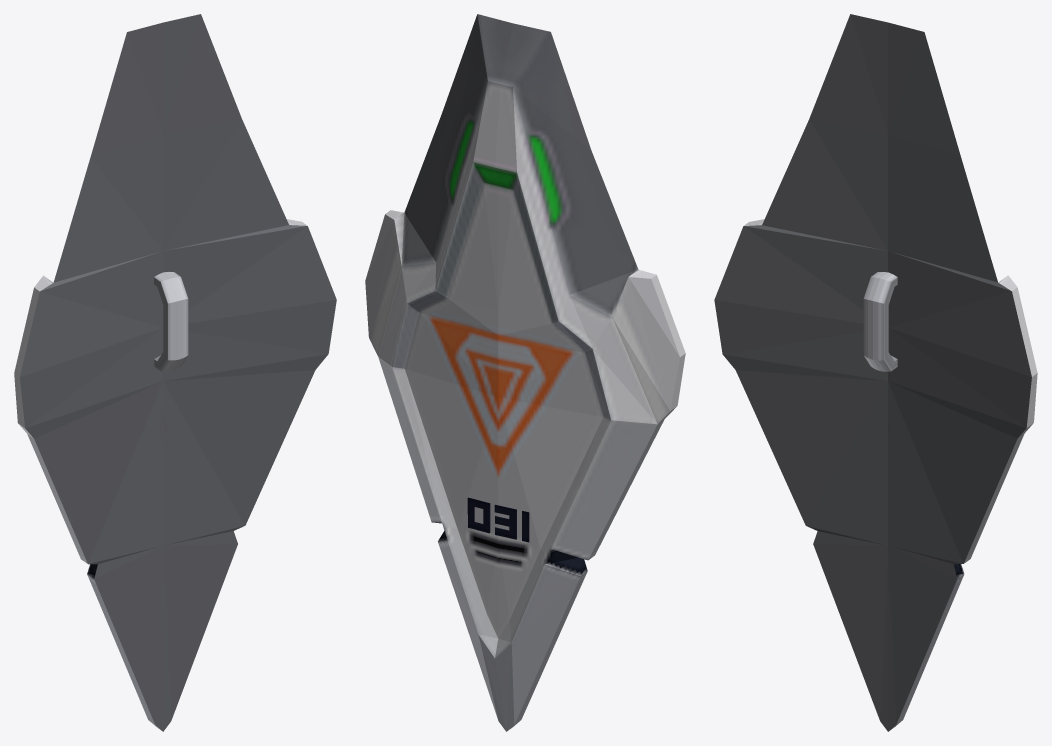
File: dun_01.FBX
The picture shows the model from 3 angles, left to right: view 1: azimuth 30°, elevation 25°; view 2: azimuth 150°, elevation 25°; view 3: azimuth 330°, elevation 25°; orthographic projection.
Parts seen in each view (by area): view 1: Object002; view 2: Object002; view 3: Object002.
Boxes of the visible parts, x1=… form: Object002: x1=14, y1=14, x2=336, y2=731; Object002: x1=365, y1=14, x2=685, y2=731; Object002: x1=714, y1=14, x2=1037, y2=731.
Bounding box in the file's own units: 0.4265 × 0.9112 × 0.0799.
